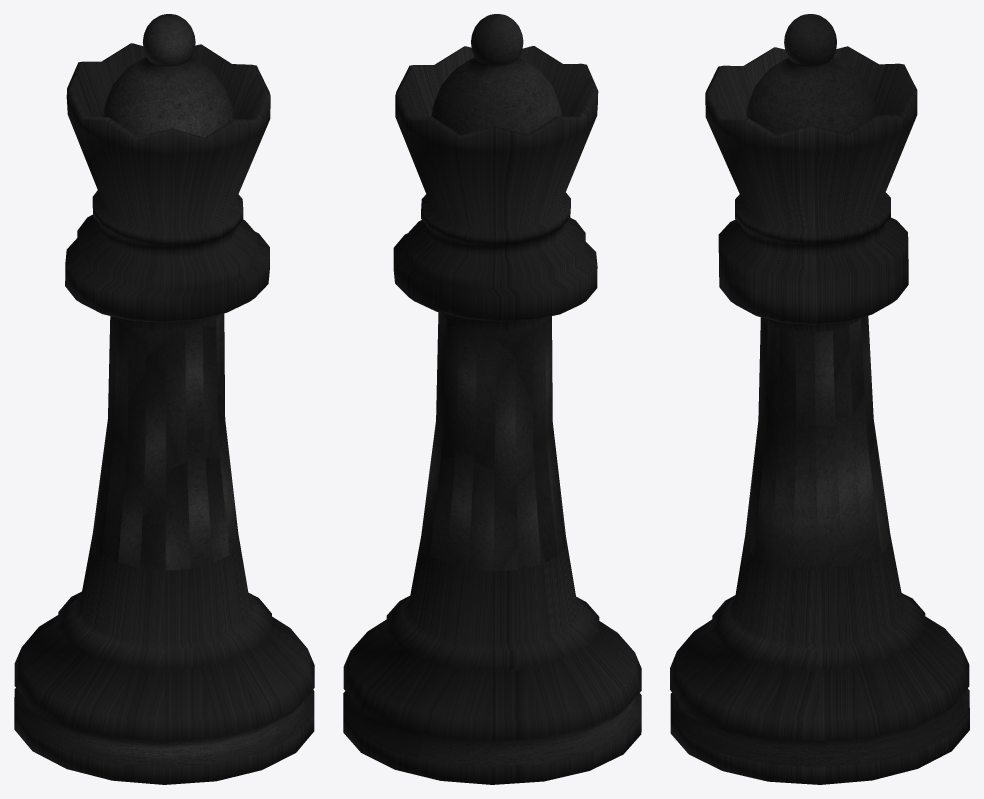
File: queen.gltf
The picture shows the model from 3 angles, left to right: view 1: azimuth 30°, elevation 25°; view 2: azimuth 150°, elevation 25°; view 3: azimuth 270°, elevation 25°; orthographic projection.
Parts seen in each view (by area): view 1: B_Queen_01 - Default_0; view 2: B_Queen_01 - Default_0; view 3: B_Queen_01 - Default_0.
Part boxes in pixels (box(x1,y1,x2,y2)): B_Queen_01 - Default_0: box(14, 14, 314, 784); B_Queen_01 - Default_0: box(343, 14, 641, 784); B_Queen_01 - Default_0: box(670, 14, 969, 784).
Bounding box in the file's own units: 0.6329 × 1.65 × 0.6245.
1 material, 1 textured.
